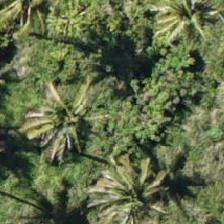coconut_tree: (0, 61, 86, 151), (76, 166, 166, 223), (129, 0, 219, 51)
